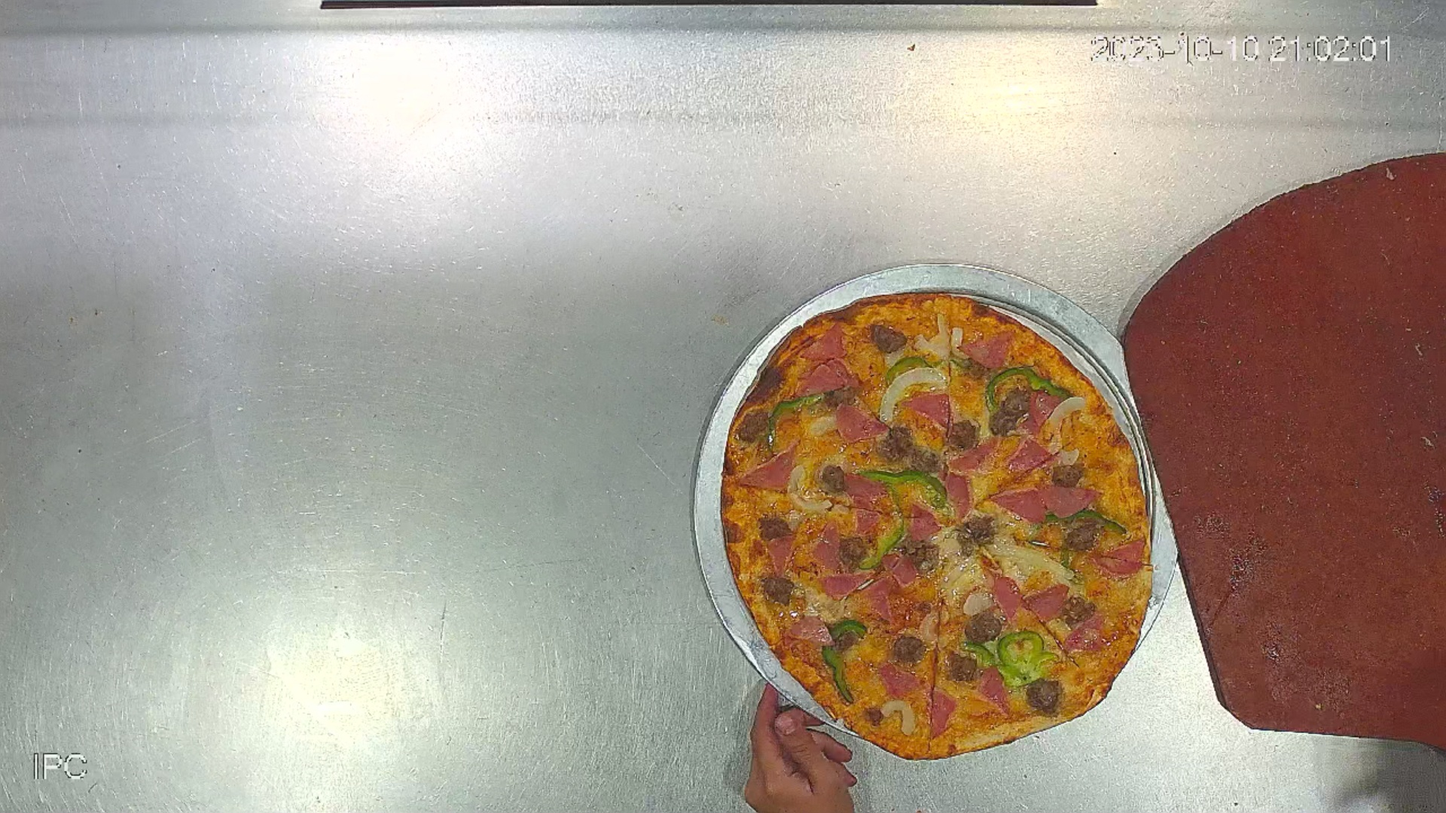manager_choice: (717, 286, 1155, 767)
